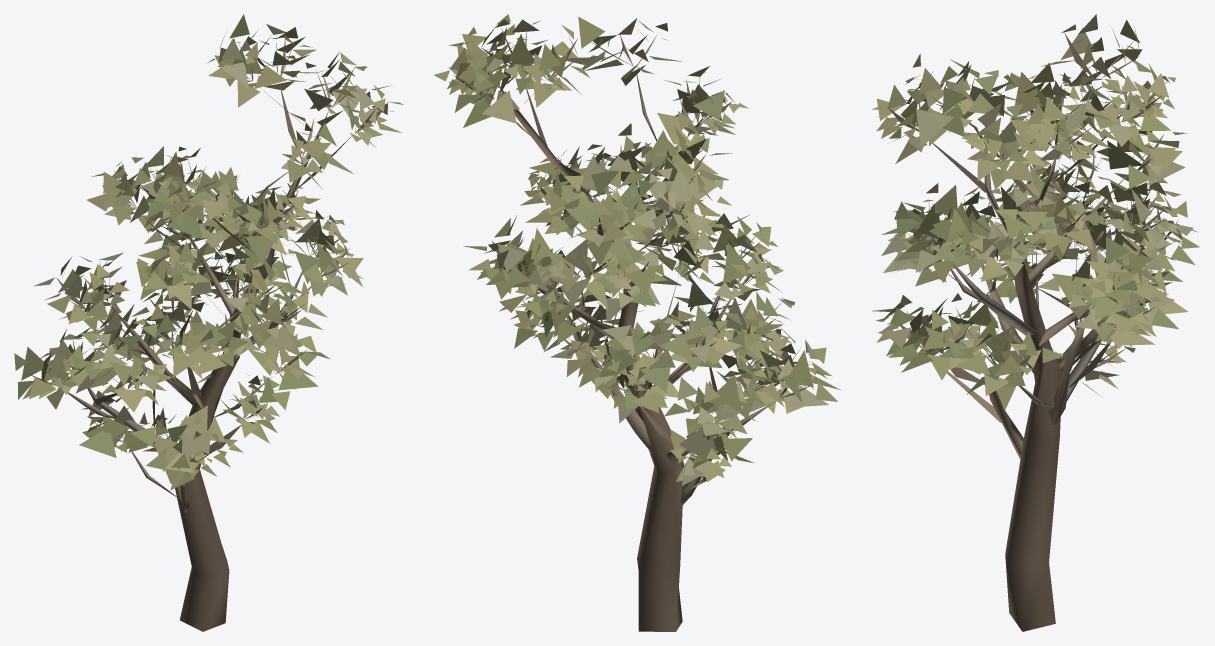
File: t02-far.glb
3 views of the same model, side by side, from view 1: azimuth 30°, elevation 25°; view 2: azimuth 150°, elevation 25°; view 3: azimuth 270°, elevation 25° (orthographic). The views are drawn at different scales.
Bounding box in the file's own units: 2.3 × 3.4 × 1.57.
